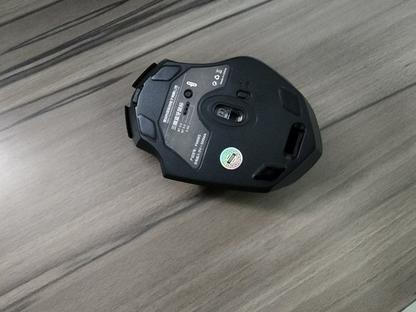mouse: (122, 55, 323, 194)
